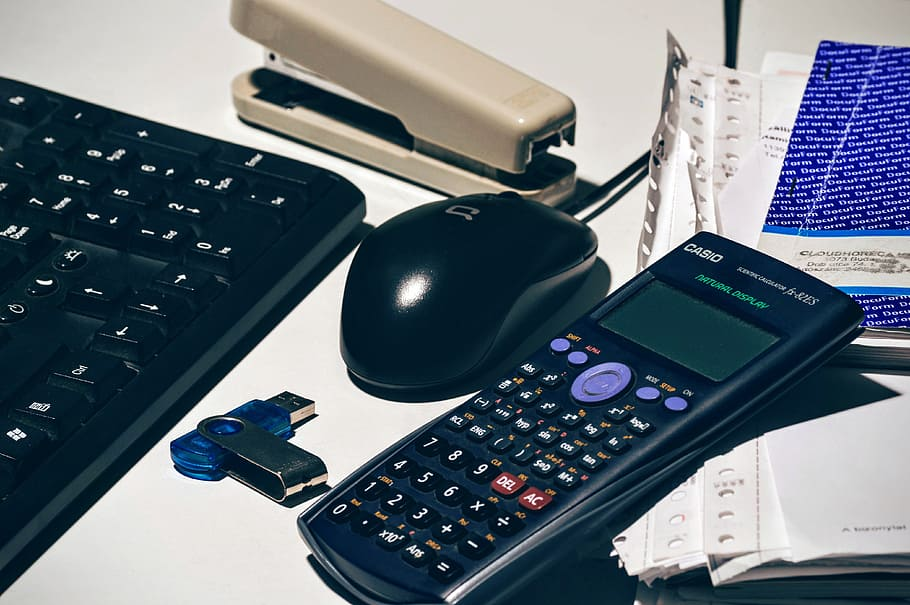Calculator: (291, 231, 871, 605)
